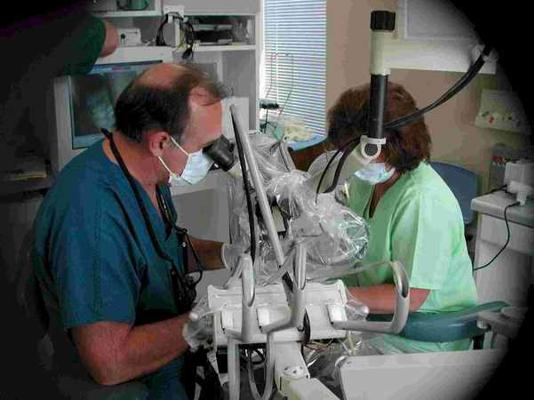person: (14, 64, 244, 400)
